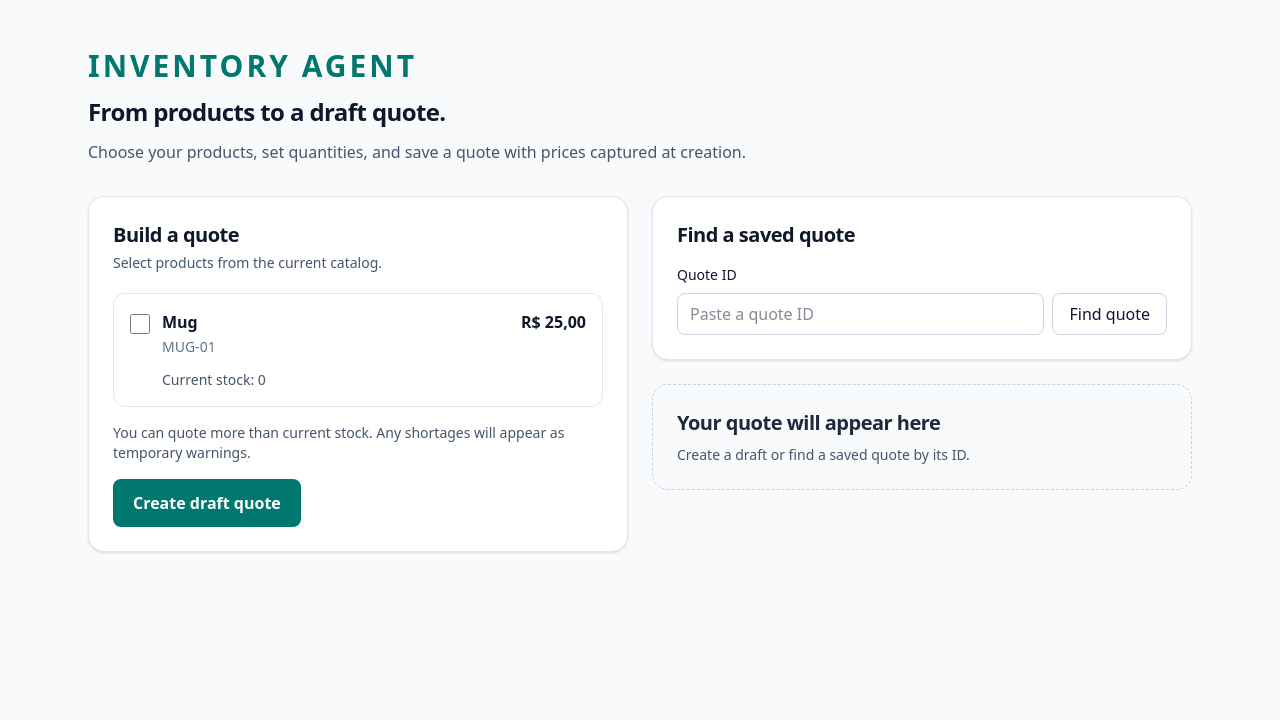
it: validates selection and positive whole quantities without submitting
The image size is (1280, 720).
Expected: the text "Mug" is shown, [162,311,198,333]
Click the button "Create draft quote" at (207, 503), box [113,479,301,527]
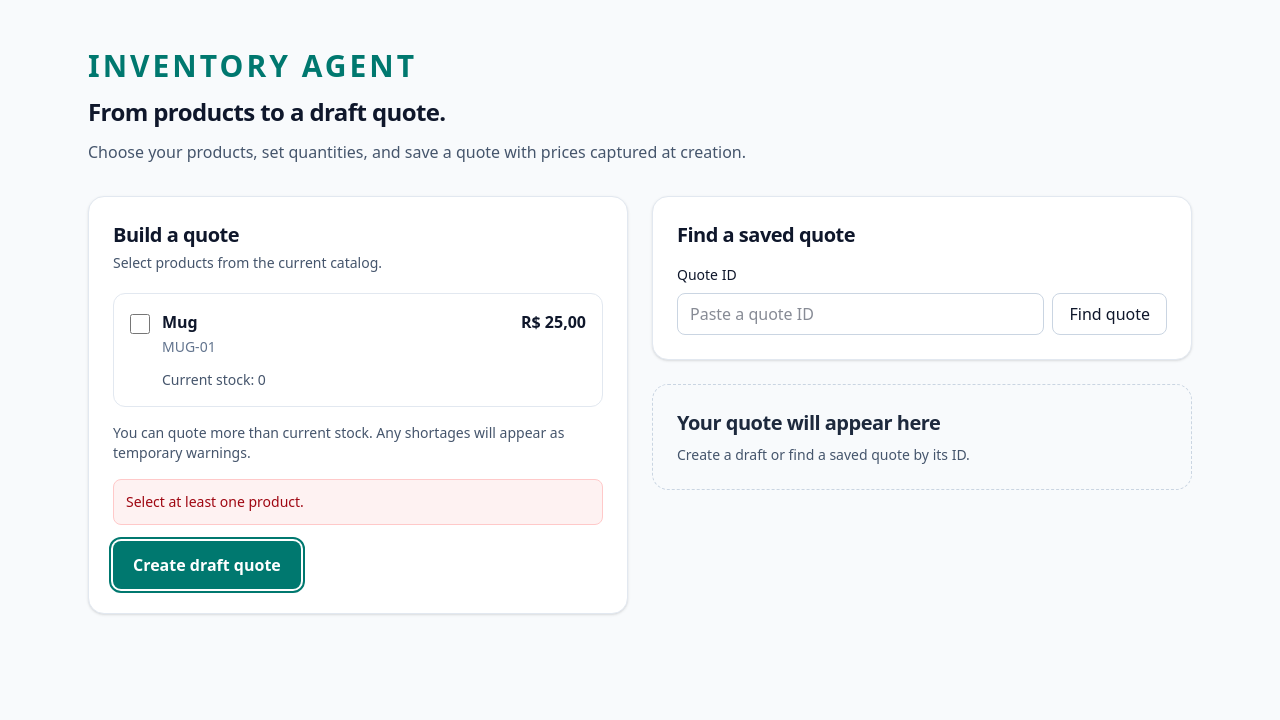
Expected: the message shows "Select at least one product", [126,492,304,511]
Click the checkbox labelled "Mug MUG-01" at (140, 324), box [130,314,150,334]
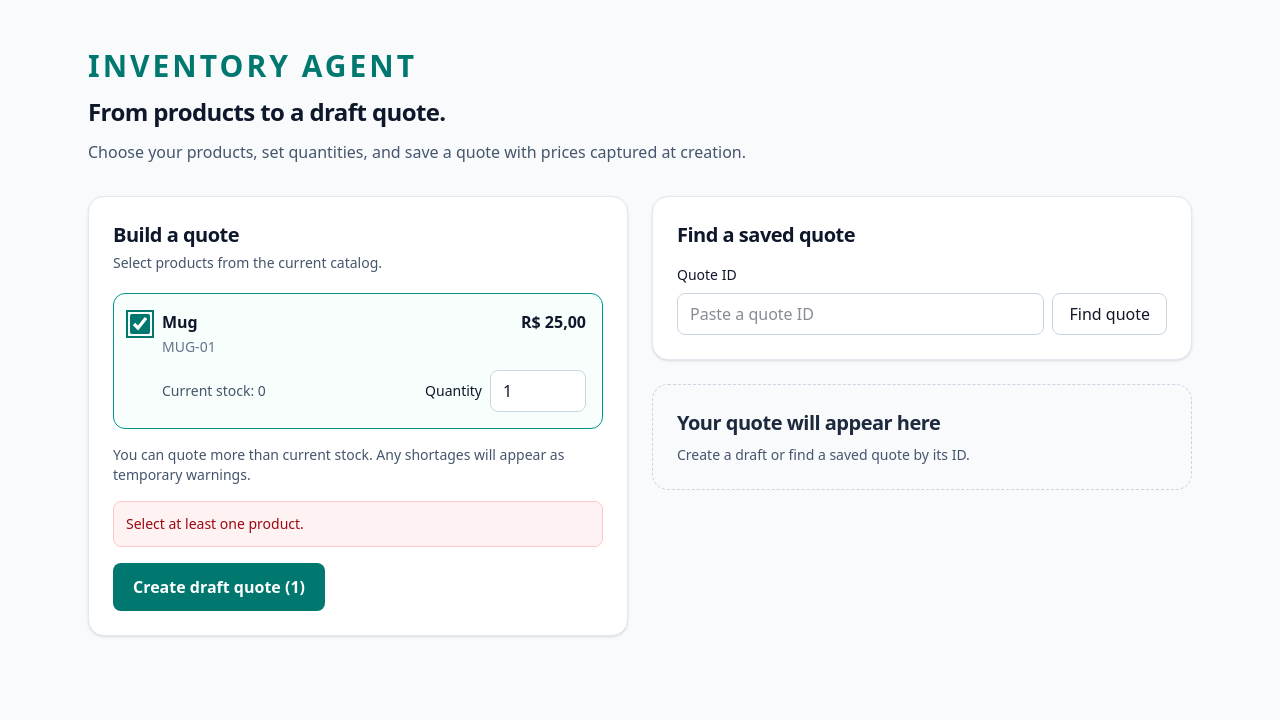
Replace the text in the number field with "1.5" at (538, 391), box [490,370,586,412]
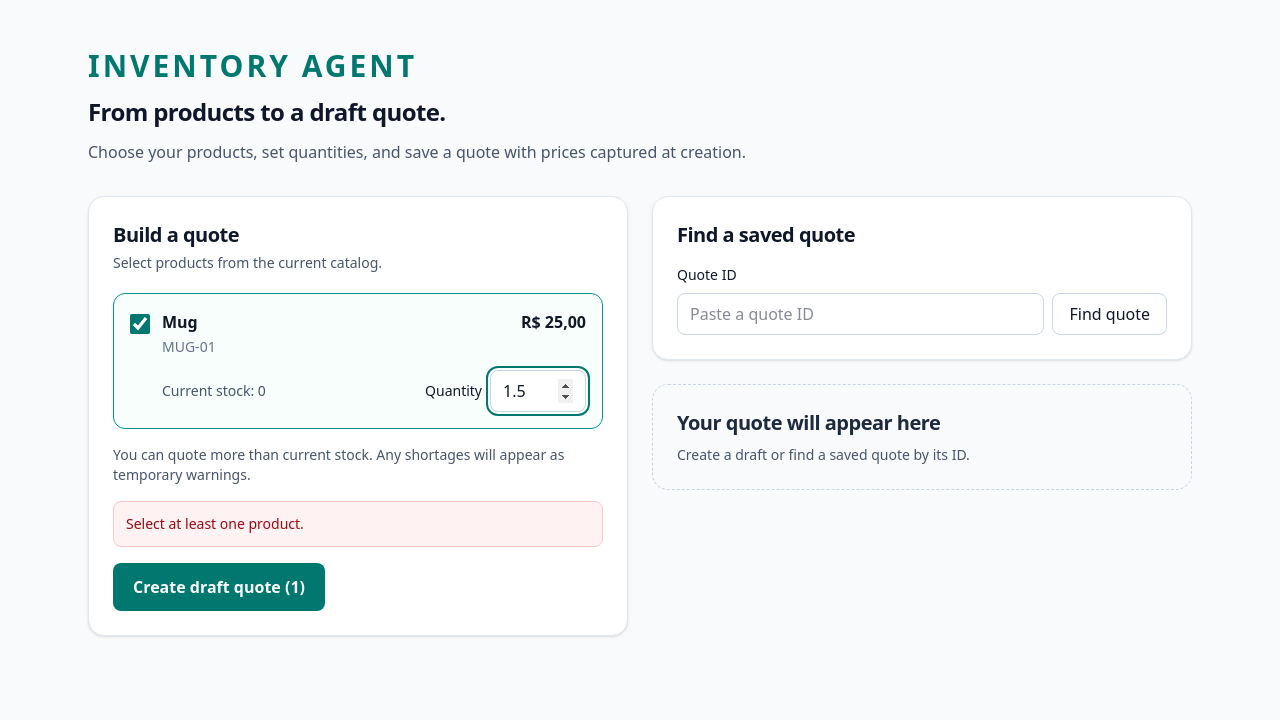
Click the button "Create draft quote (1)" at (219, 587), box [113,563,325,611]
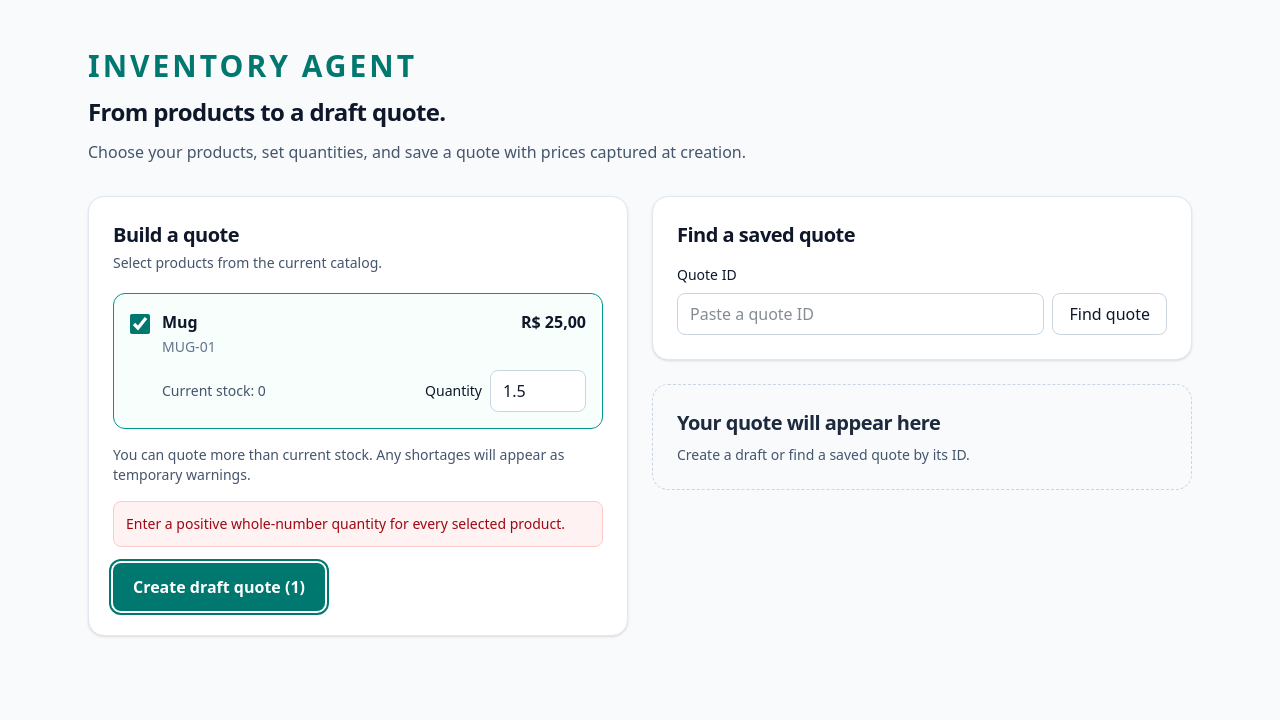
Expected: the message shows "positive whole-number", [126,514,565,533]
